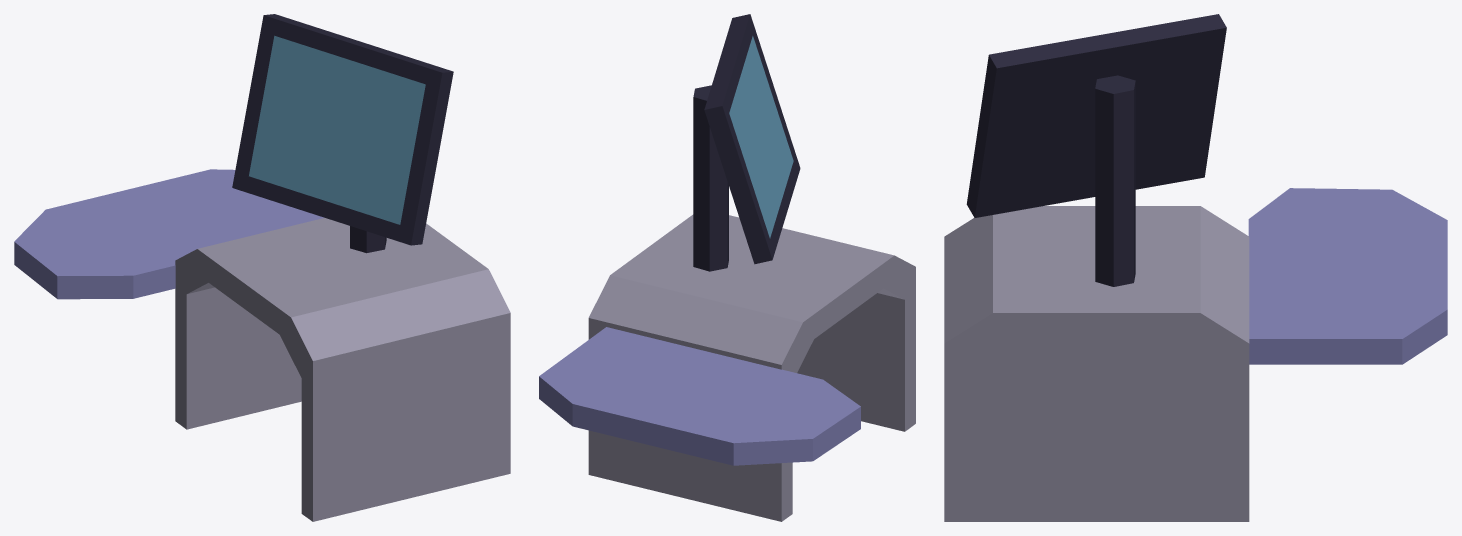
Rendered from Register1.fbx.
3 renders of one model, left to right at view 1: azimuth 30°, elevation 25°; view 2: azimuth 150°, elevation 25°; view 3: azimuth 270°, elevation 25°, orthographic. The views are drawn at different scales.
Visible parts, largest first — view 1: Register1; view 2: Register1; view 3: Register1.
Part boxes in pixels (left/top/right/bottom): Register1: left=14, top=14, right=510, bottom=521; Register1: left=539, top=14, right=915, bottom=521; Register1: left=944, top=14, right=1447, bottom=521.
Size of the model in its own units: 98.77 by 126 by 131.
